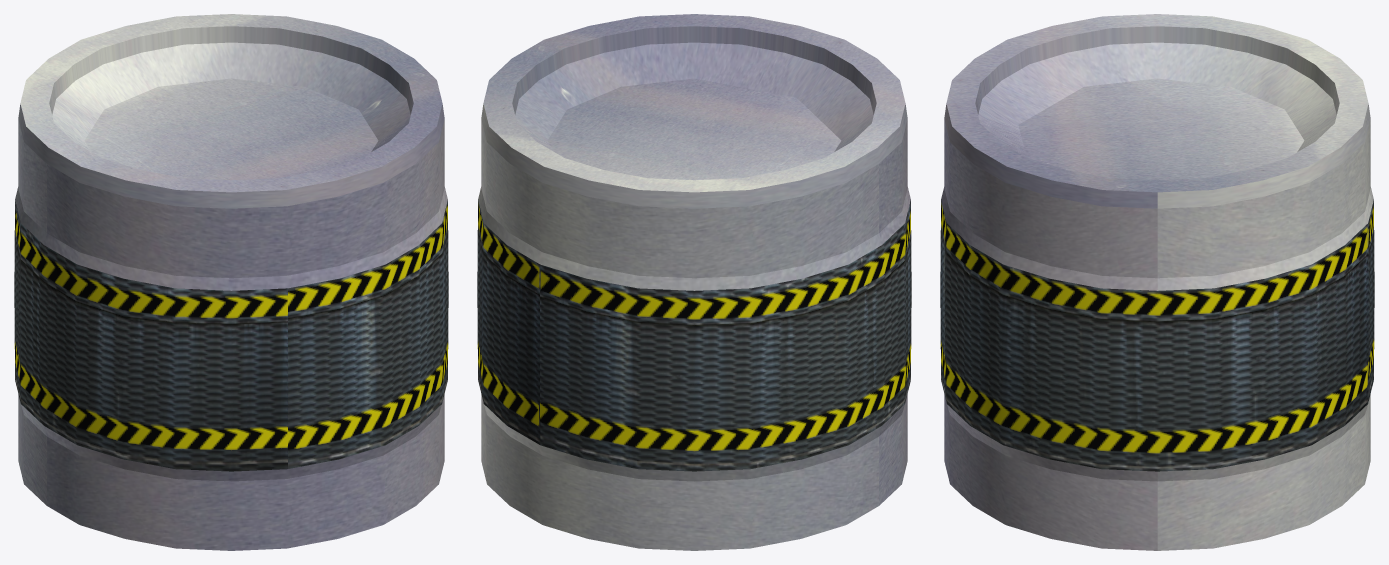
The model's file is fuelTank.DAE.
The picture shows the model from 3 angles, left to right: view 1: azimuth 30°, elevation 25°; view 2: azimuth 150°, elevation 25°; view 3: azimuth 270°, elevation 25°; orthographic projection.
Visible parts, largest first — view 1: tank; view 2: tank; view 3: tank.
Boxes of the visible parts, left/top/right/bottom form: tank: left=14, top=14, right=448, bottom=550; tank: left=477, top=14, right=911, bottom=550; tank: left=940, top=14, right=1374, bottom=550.
Size of what is drawn, in the model's own units: 1.02 by 0.9255 by 1.02.
